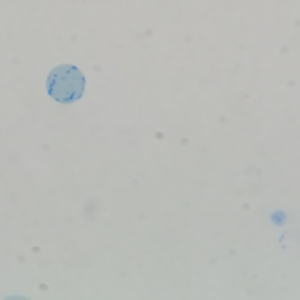aggregate reticulocyte: (43, 63, 88, 105)
